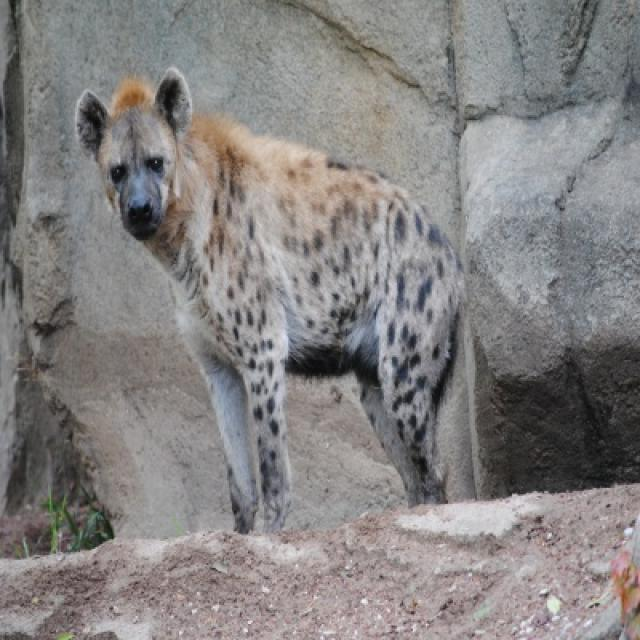hyena: (77, 67, 462, 528)
